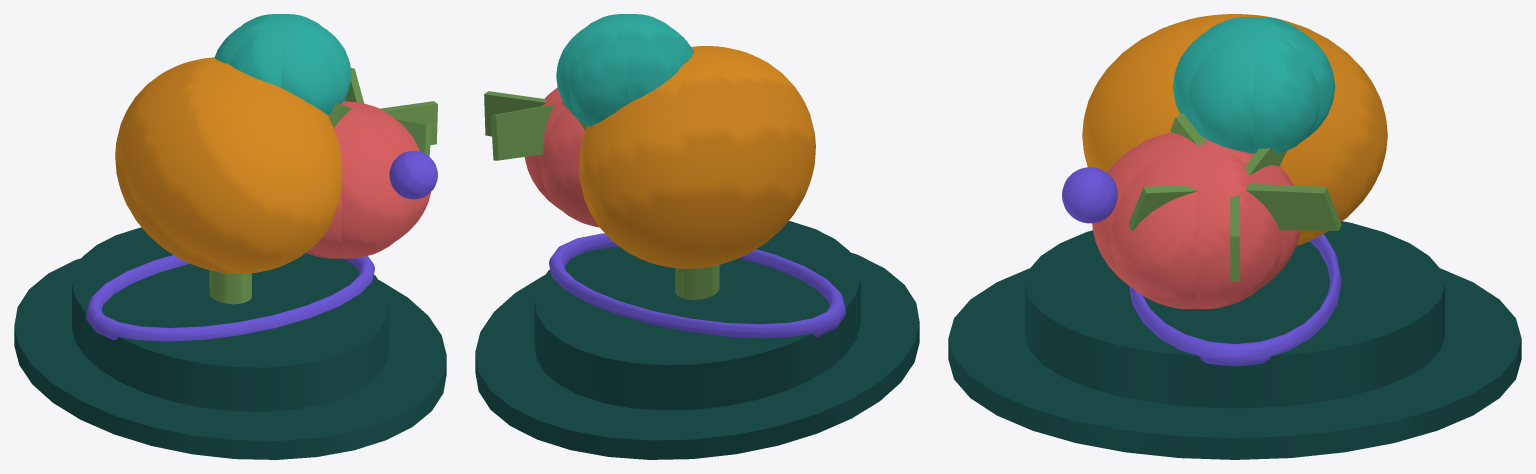
The model's file is 0105_植物图鉴_塔黄.glb.
The picture shows the model from 3 angles, left to right: view 1: azimuth 30°, elevation 25°; view 2: azimuth 150°, elevation 25°; view 3: azimuth 270°, elevation 25°; orthographic projection. The views are drawn at different scales.
Visible parts, largest first — view 1: card_0105; view 2: card_0105; view 3: card_0105.
Part boxes in pixels (box(x1,y1,x2,y2)): card_0105: box(14, 14, 446, 459); card_0105: box(475, 14, 919, 459); card_0105: box(948, 14, 1521, 459).
Size of the model in its own units: 1.26 by 1 by 1.41.
